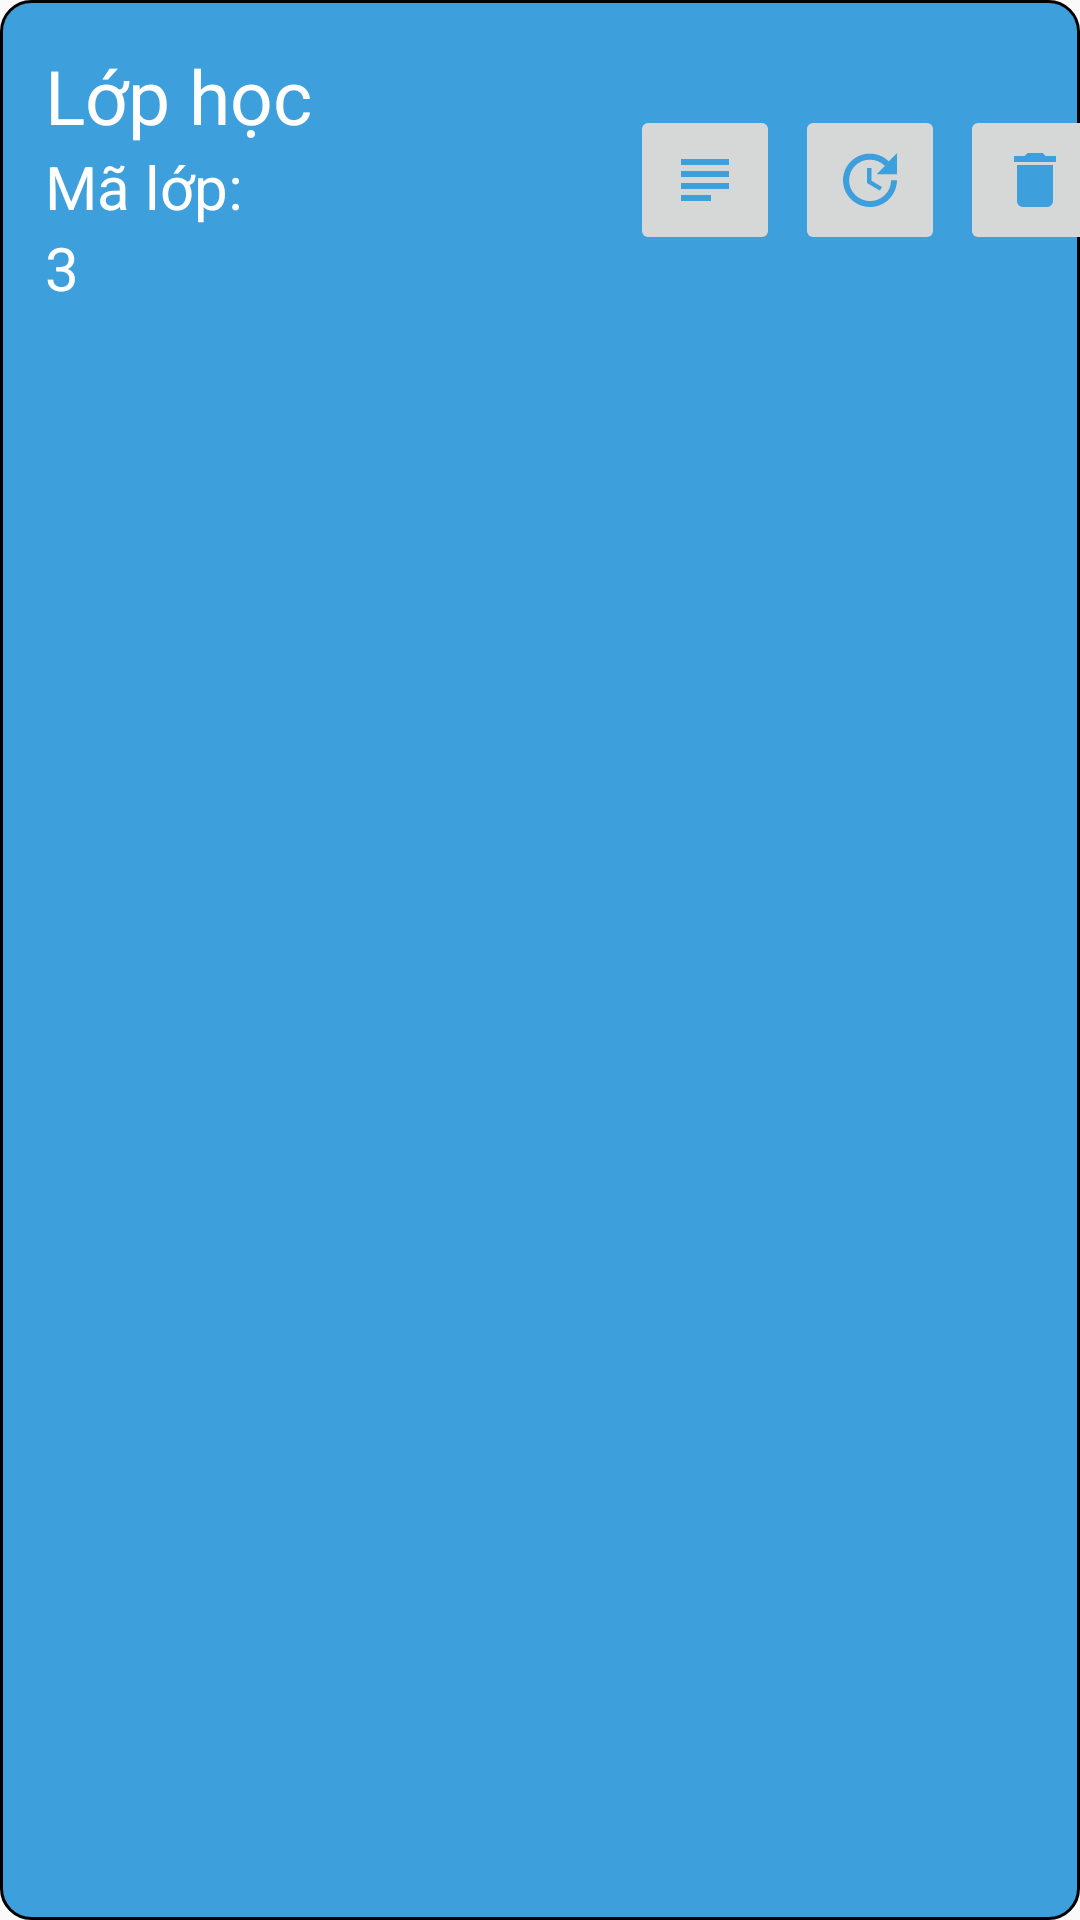

Icons on this 1080px×1920px Android screen, each with the point to tap as [x,y]:
subject: [705,180]
update: [870,180]
